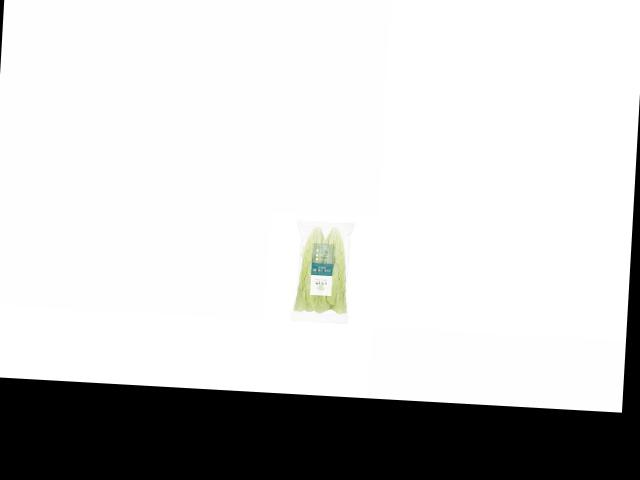lettuce: (293, 224, 358, 318)
